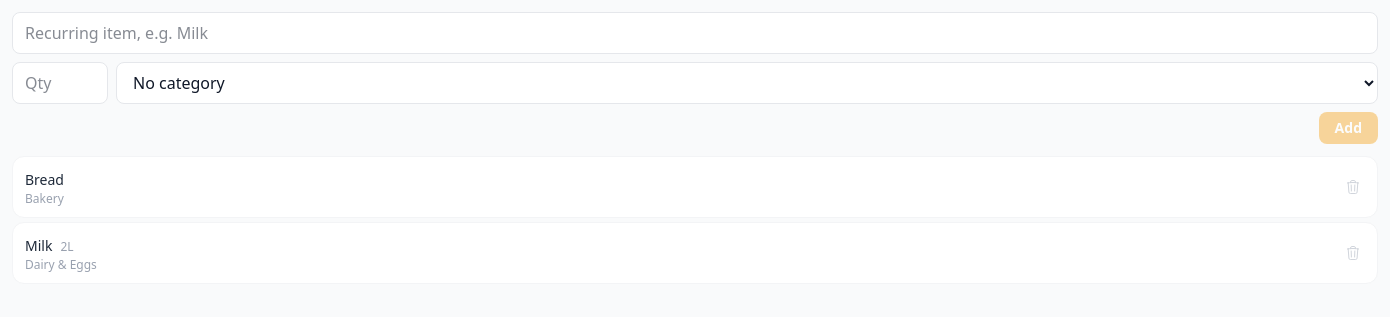
Scenario: RecurringManager › rejects a duplicate name inline without saving
The image size is (1390, 317).
Type "breads" into the field named "Recurring item name" at x=695, y=33, box [12,12,1378,54]
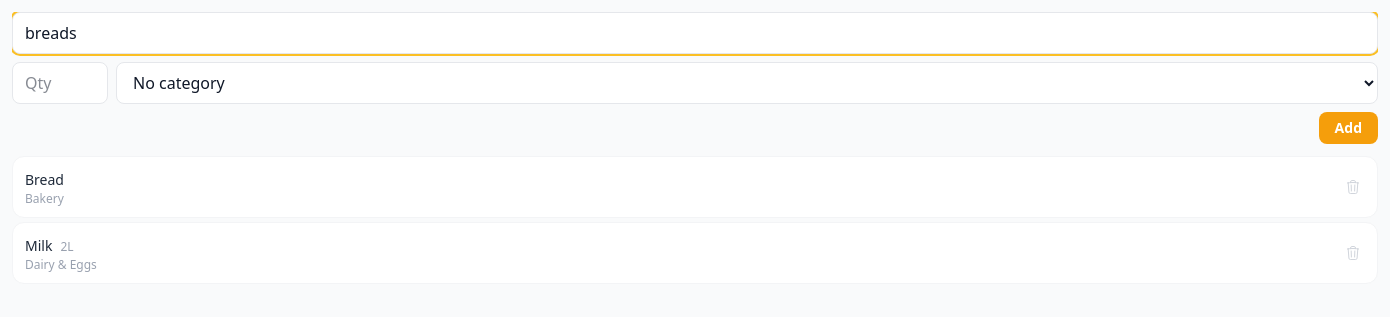
Click the button "Add" at x=1348, y=128, box [1319,112,1378,144]
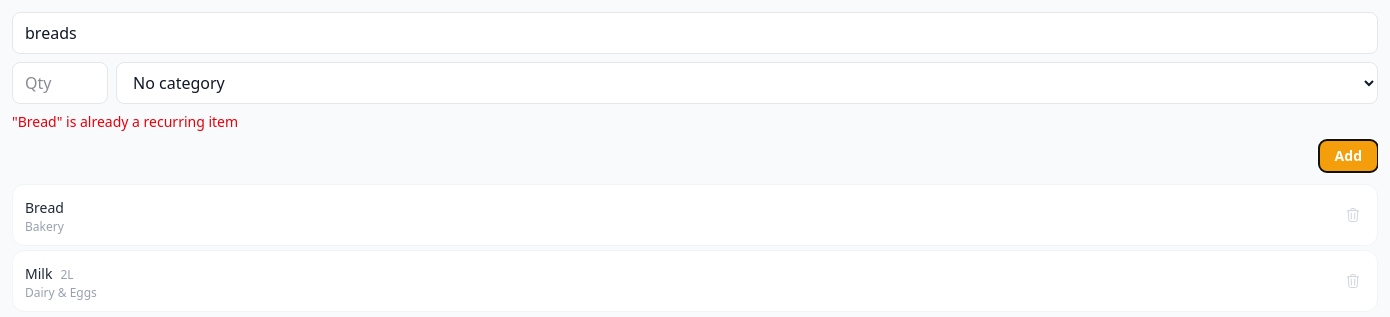
Now the message reads "\"Bread\" is already a recurring item", box [12,112,238,131]
